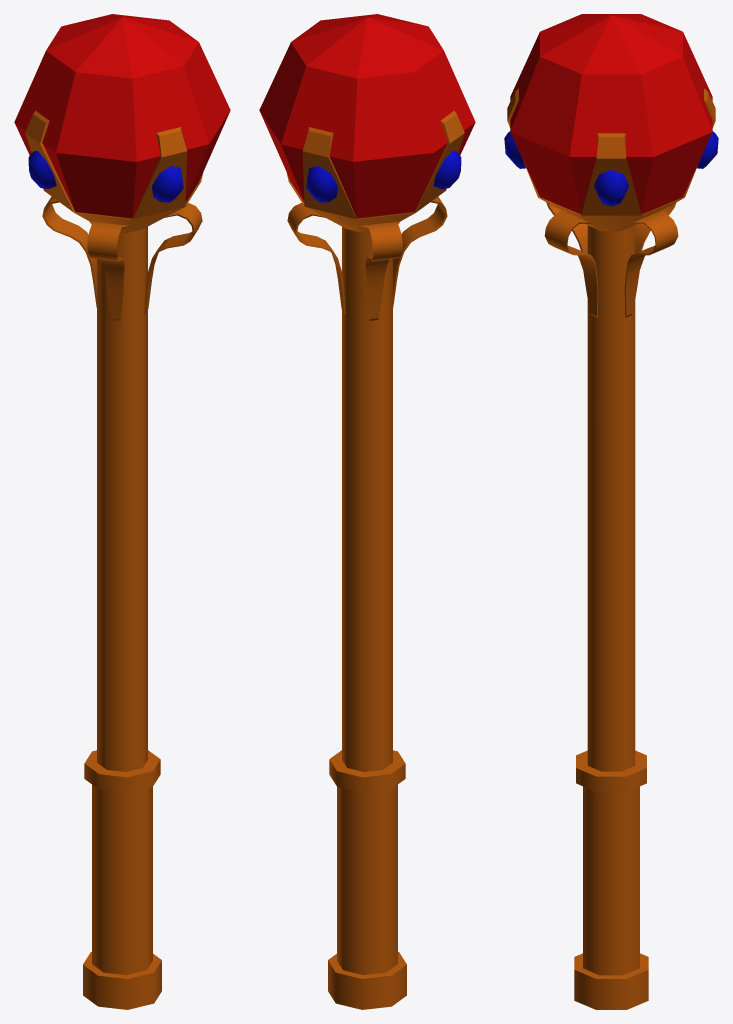
File: scepter_royal.obj
The picture shows the model from 3 angles, left to right: view 1: azimuth 30°, elevation 25°; view 2: azimuth 150°, elevation 25°; view 3: azimuth 270°, elevation 25°; orthographic projection.
Visible parts, largest first — view 1: 0, 1, 2; view 2: 0, 1, 2; view 3: 0, 1, 2.
Part boxes in pixels (x1,y1,x2,y2): 0: (25,110,202,1009); 1: (14,14,230,218); 2: (28,151,183,202); 0: (287,110,464,1009); 1: (259,14,475,218); 2: (306,151,461,202); 0: (507,88,715,1009); 1: (510,14,712,214); 2: (504,131,718,206).
Size of the model in its own units: 0.1252 by 0.6312 by 0.1252.
